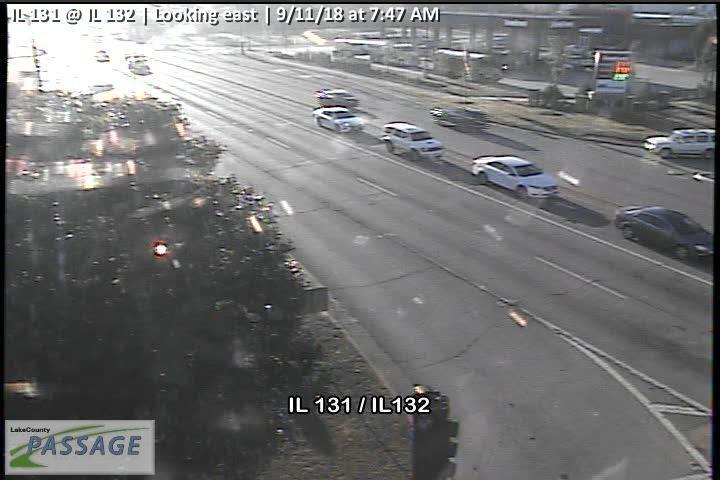SUV: (379, 121, 443, 162), (643, 126, 720, 160), (433, 103, 489, 133)
Sedan: (614, 204, 718, 263), (470, 153, 561, 200), (312, 105, 363, 134), (314, 87, 359, 107)
